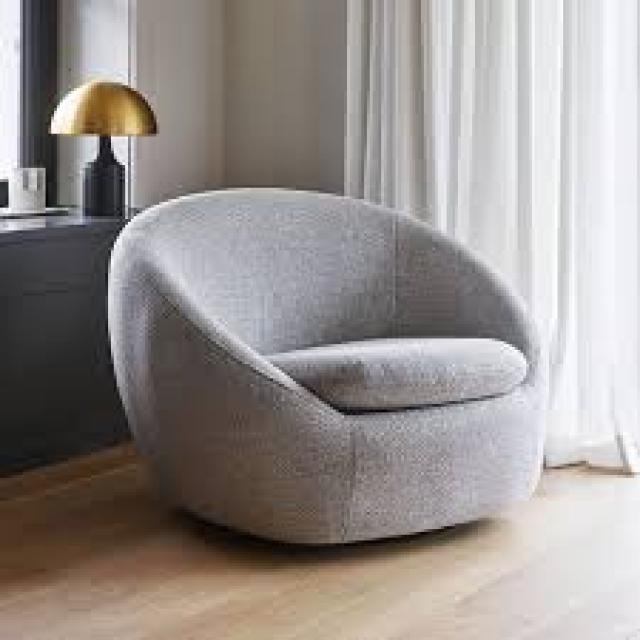chair: (69, 149, 578, 589)
